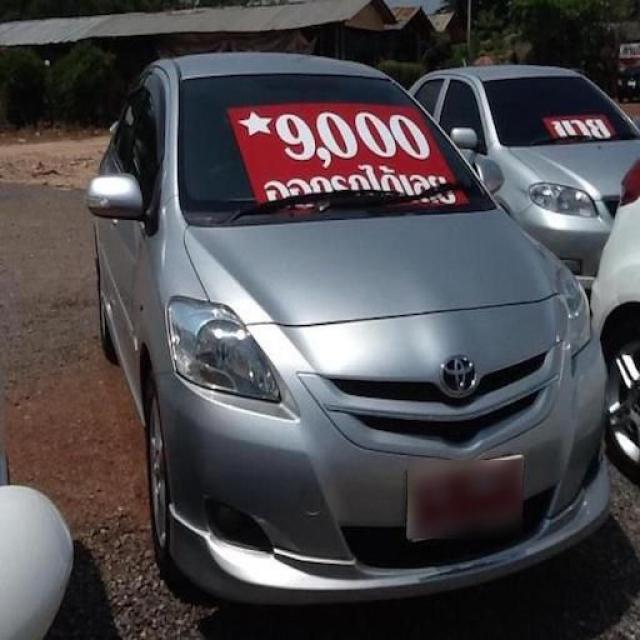back_right_door: (97, 74, 148, 328)
front_bumper: (156, 295, 610, 606)
front_glass: (177, 74, 500, 227)
front_left_light: (561, 269, 594, 356)
front_right_door: (111, 69, 167, 402)
front_right_light: (168, 297, 282, 402)
hood: (186, 210, 568, 327)
left_mirror: (473, 156, 501, 194)
right_mirror: (88, 170, 146, 221)
wheel: (144, 374, 169, 564), (95, 257, 114, 359)
